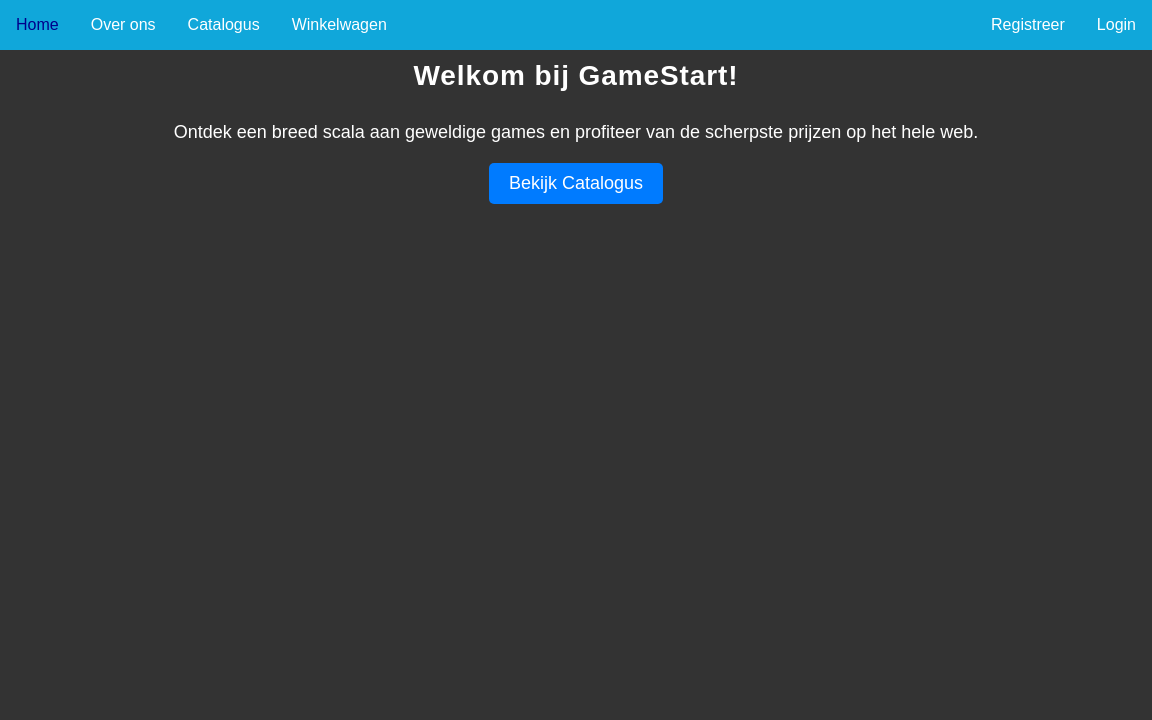
Test case: registratie test › registreer scherm sluiten
Click the button with test id "registreer-button".
click(1028, 25)  # box [975,0,1081,50]
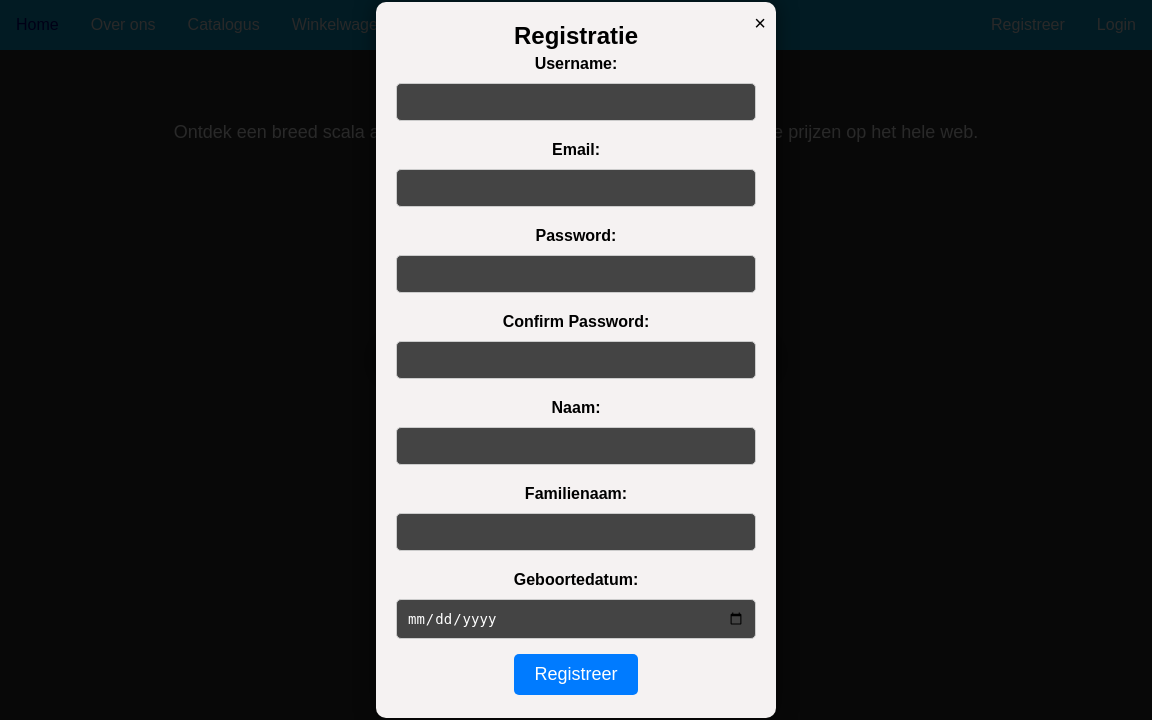
Expected: the element with class "modal" that starts with "Registratie" is shown
Click the text with test id "close-button".
click(760, 24)  # box [754,12,766,35]
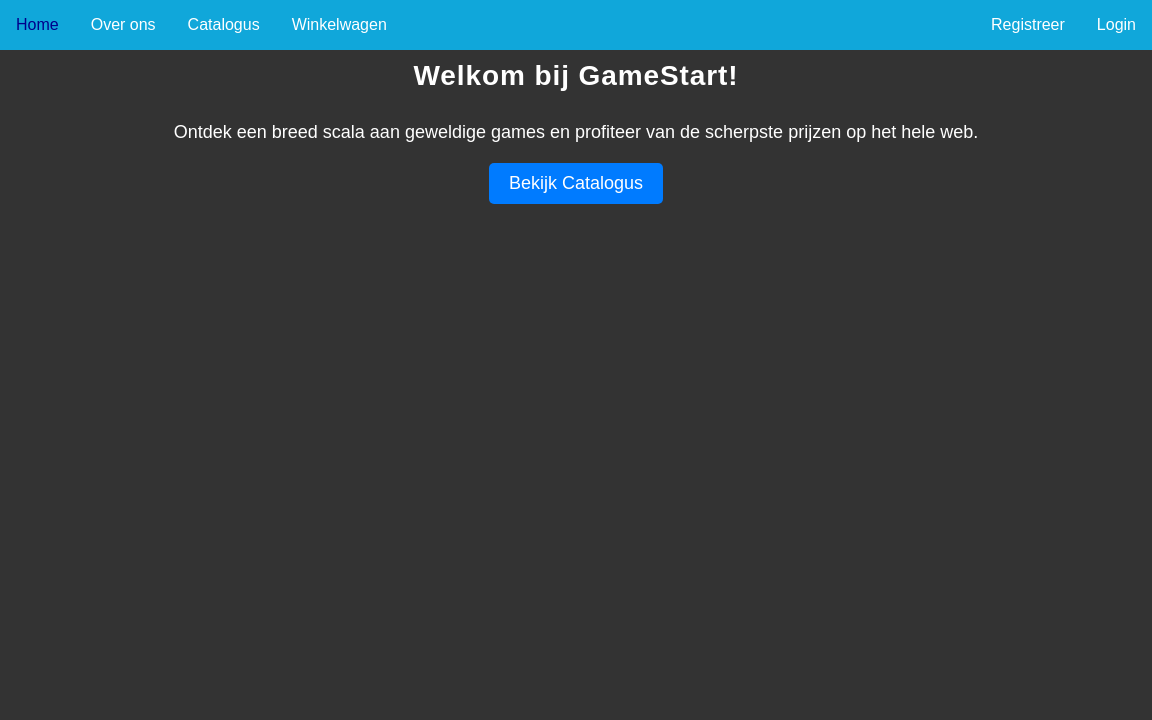
Expected: the element with class "modal" is gone
